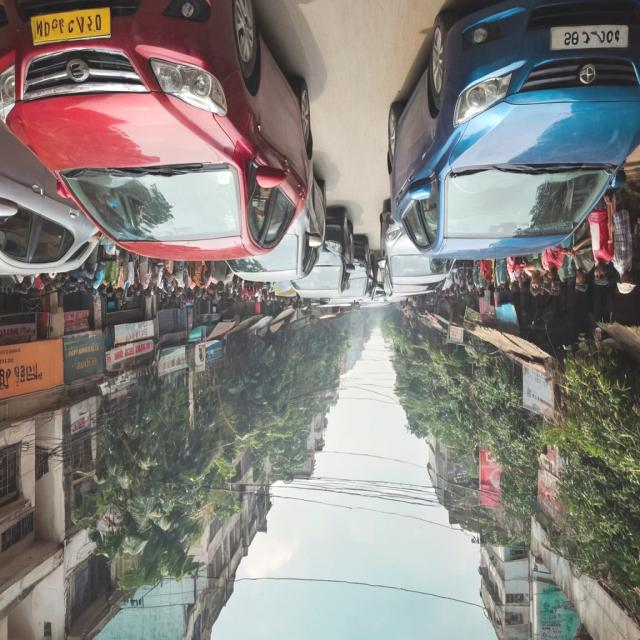black: (284, 206, 354, 298)
blue: (389, 0, 640, 250)
red: (0, 0, 337, 264)
silver: (210, 160, 331, 282), (377, 208, 463, 286)
white: (0, 117, 106, 286)
